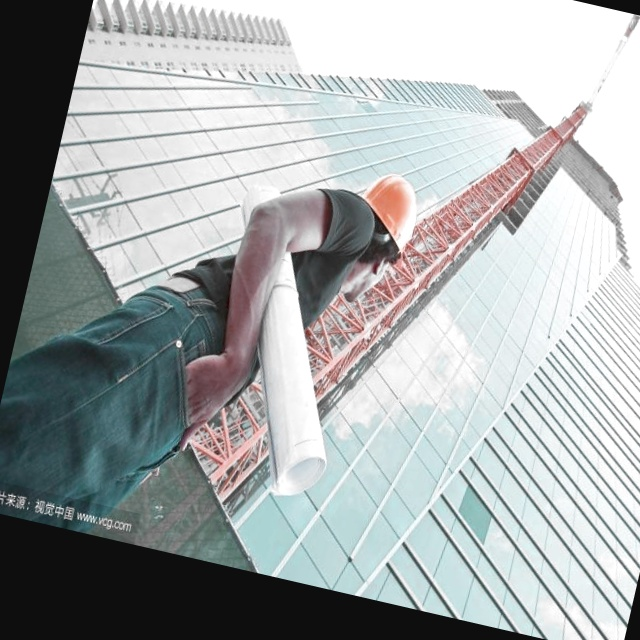Con_Casco: (345, 167, 426, 308)
